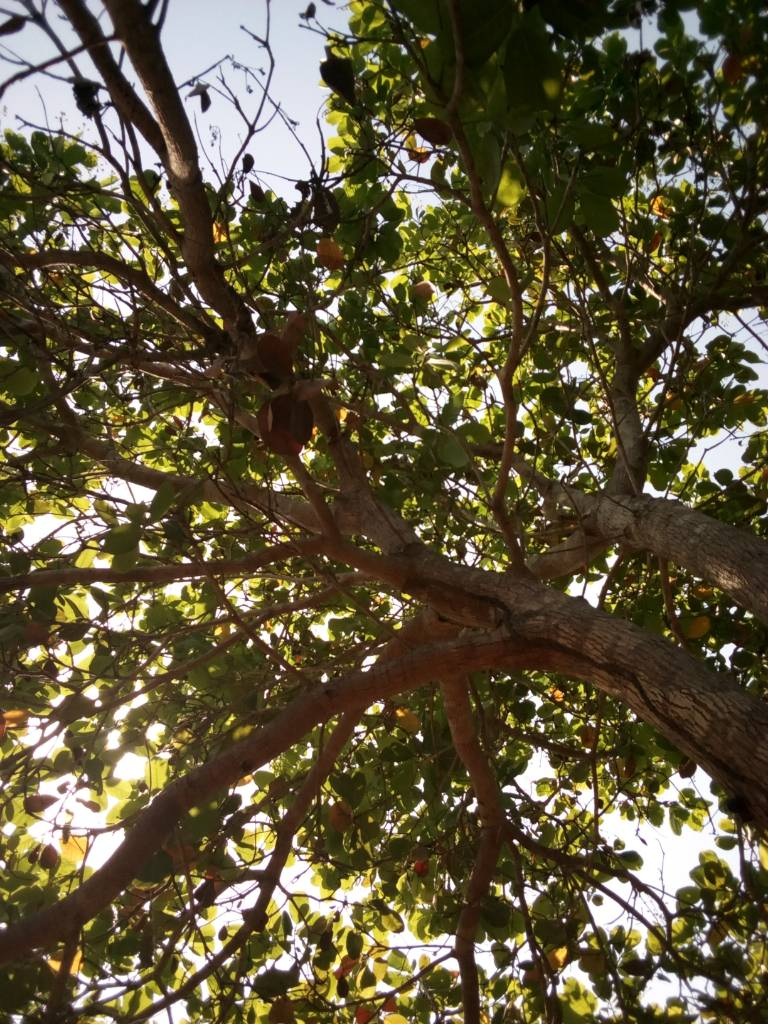Termites: (410, 569, 522, 619), (488, 632, 618, 663)
